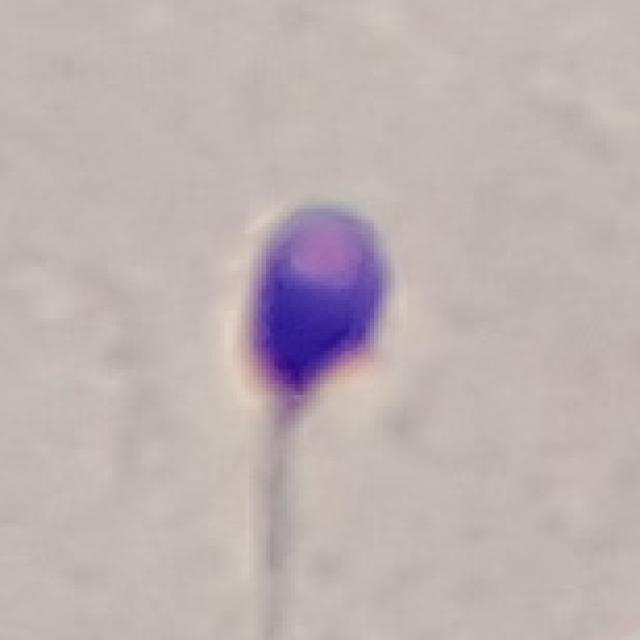normal sperm: (237, 204, 388, 506)
